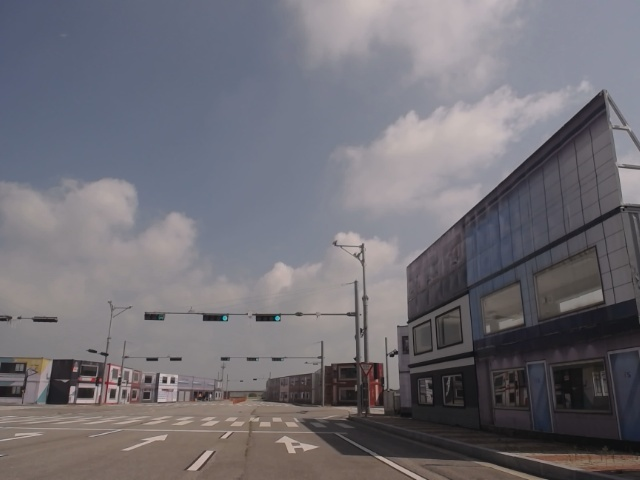straight_green_4: (203, 313, 230, 322), (255, 313, 282, 322)
